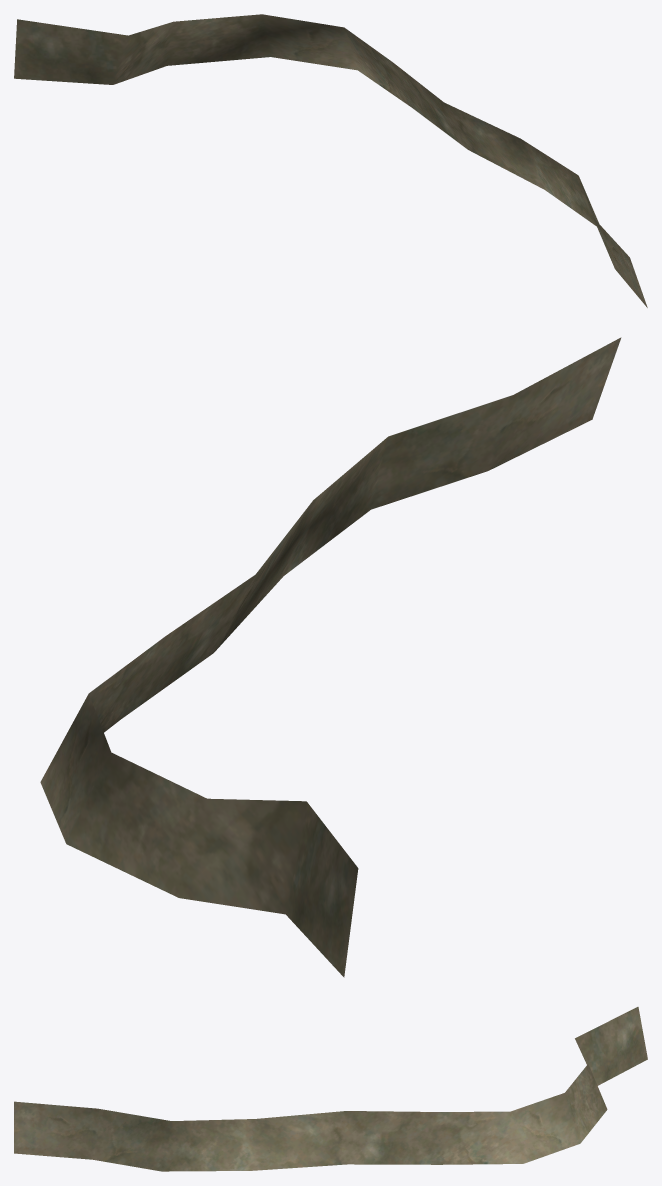
The model's file is EKH_CAVERNS_PS_CA_OBJECT24.fbx.
3 renders of one model, top to bottom at view 1: azimuth 30°, elevation 25°; view 2: azimuth 150°, elevation 25°; view 3: azimuth 270°, elevation 25°, orthographic. The views are drawn at different scales.
Parts seen in each view (by area): view 1: EKH_CAVERNS_PS_CA_OBJECT24; view 2: EKH_CAVERNS_PS_CA_OBJECT24; view 3: EKH_CAVERNS_PS_CA_OBJECT24.
Boxes of the visible parts, <box> form: EKH_CAVERNS_PS_CA_OBJECT24: <box>14,14,647,307</box>; EKH_CAVERNS_PS_CA_OBJECT24: <box>40,337,621,977</box>; EKH_CAVERNS_PS_CA_OBJECT24: <box>14,1007,647,1171</box>.
Bounding box in the file's own units: 37064 × 7916 × 87696.
Materials: 1 (1 with a texture image).
